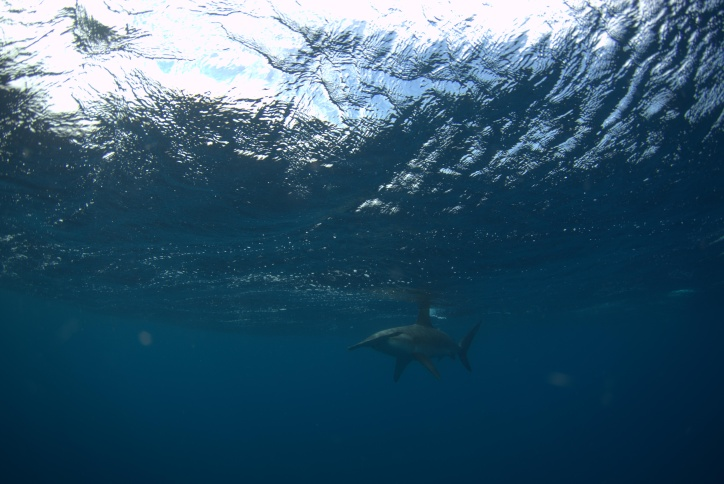Hammer: (314, 261, 503, 409)
